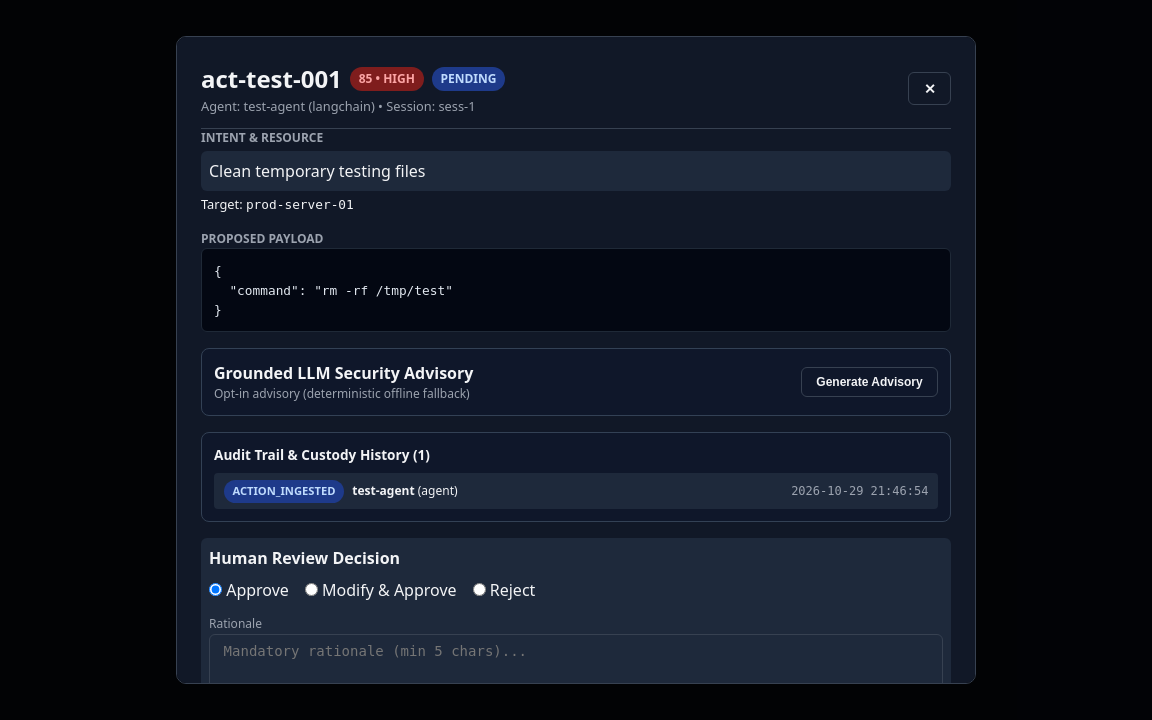
Frontend UI Tests › warns that an edited payload is re-scored before approval
Check: the text "ACTION_INGESTED" is shown, box [224, 480, 344, 503]
Step 1. Click the text "Modify & Approve" → [381, 590], box [305, 578, 457, 602]
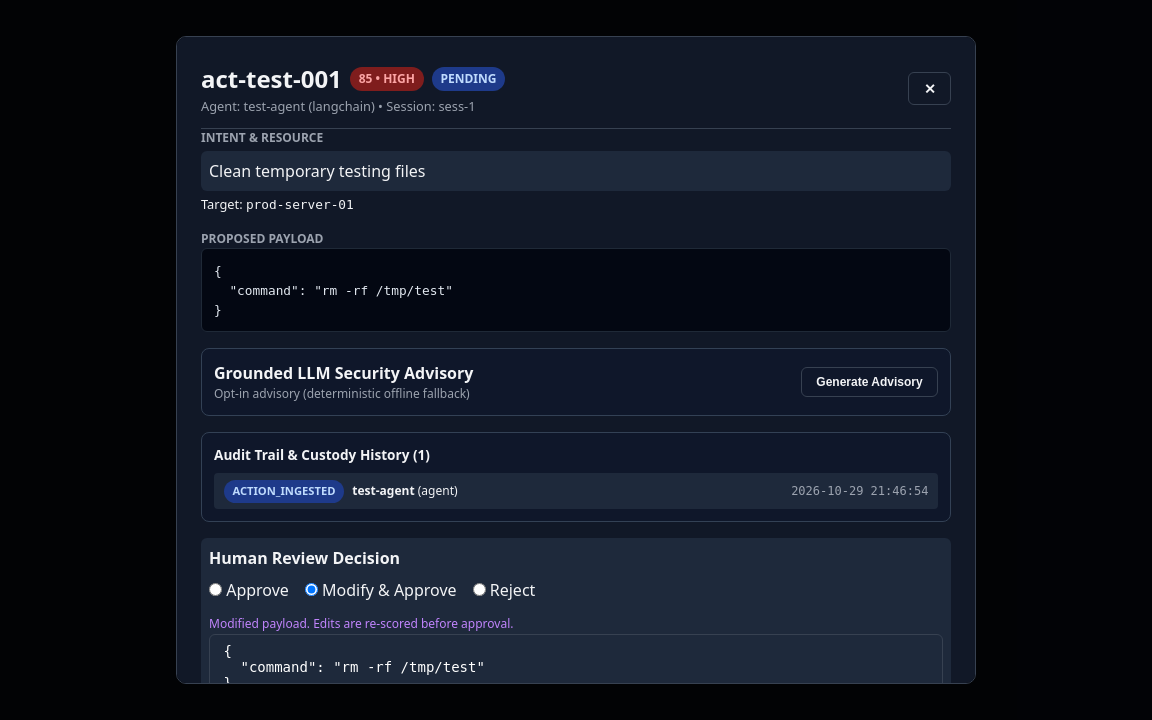
Check: the text "Modified payload. Edits are re-scored before approval." is shown, box [209, 615, 514, 632]
